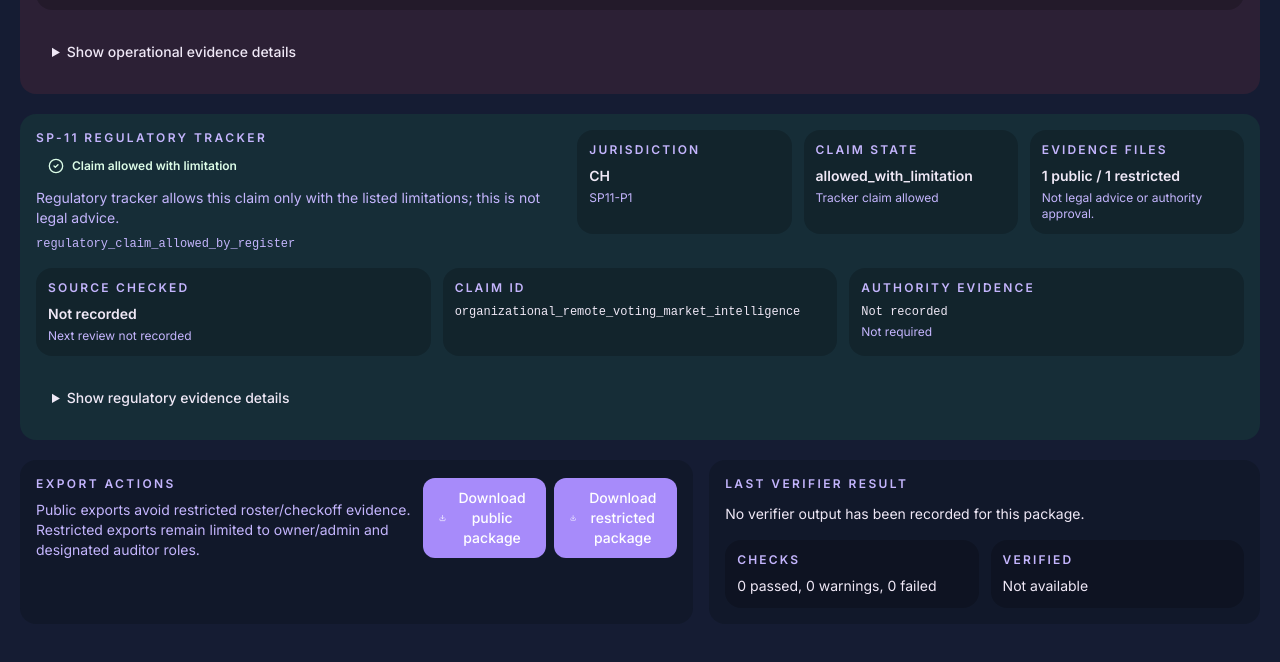
Scenario: VerificationPackageStatusSection › renders SP-11 regulatory claim only when a claim is exported
The width and height of the screenshot is (1280, 662).
(page scrolled)
Expected: the element with test id "verification-package-sp11-regulatory-claim" shows "SP-11 regulatory tracker", left=36, top=130, right=267, bottom=145
Expected: the element with test id "verification-package-sp11-regulatory-claim" shows "Claim allowed with limitation", left=72, top=158, right=237, bottom=173
Click the heading "Show regulatory evidence details" at [178, 398], box left=67, top=389, right=289, bottom=406
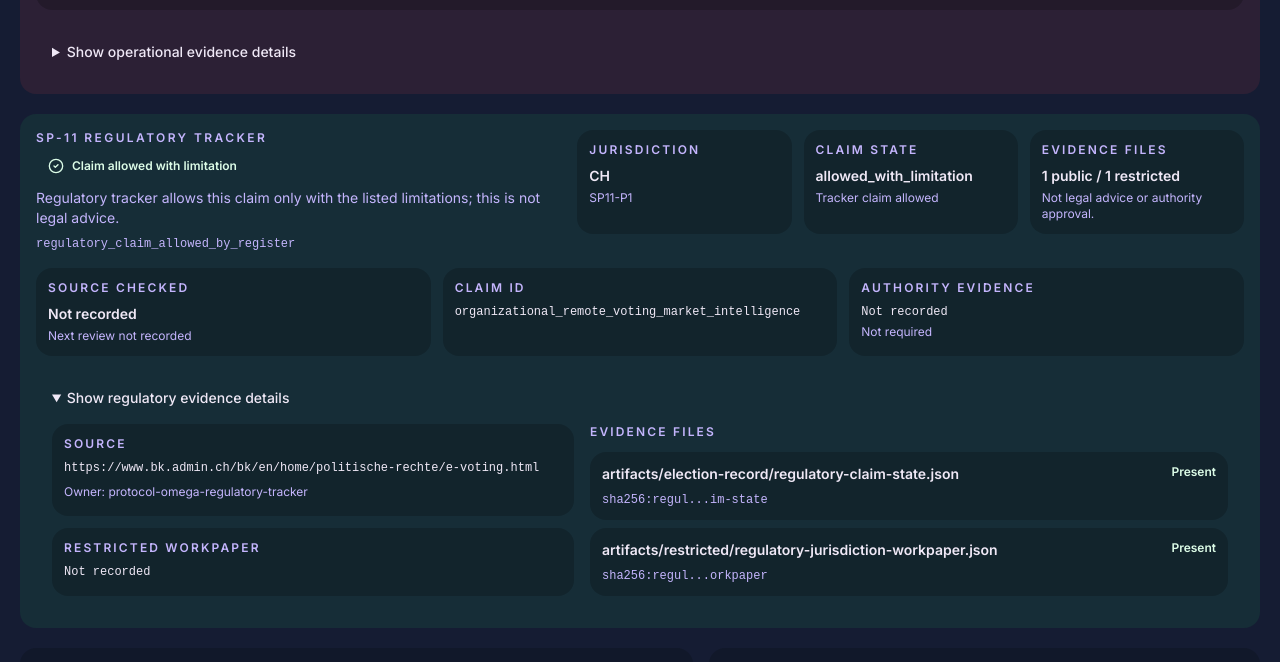
Result: the element with test id "verification-package-sp11-files" shows "regulatory-claim-state.json" at left=602, top=465, right=959, bottom=482
Result: the element with test id "verification-package-sp11-files" shows "regulatory-jurisdiction-workpaper.json" at left=602, top=541, right=998, bottom=558
